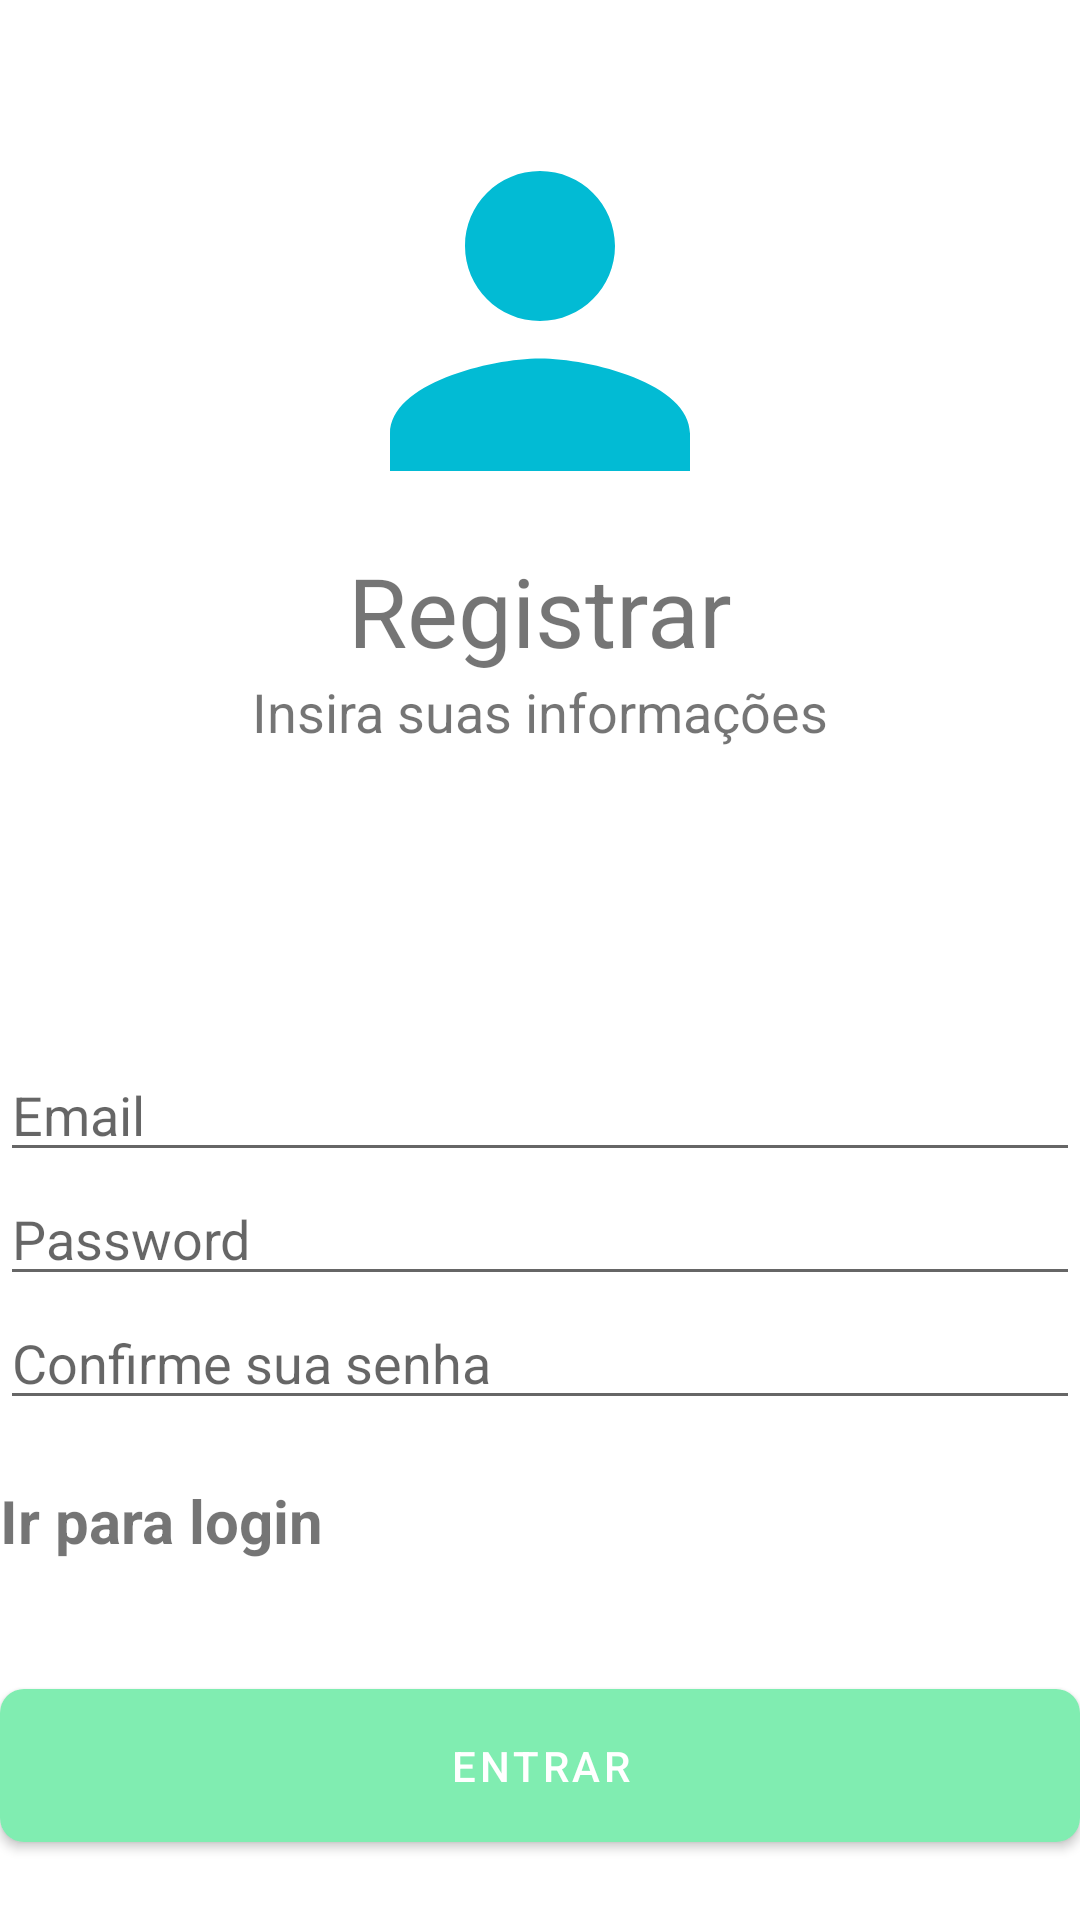

Screen size 1080 × 1920. Icon name, then its box in pixels as bbox=(x1, y1, x2, y2):
user: bbox=(390, 171, 690, 471)
